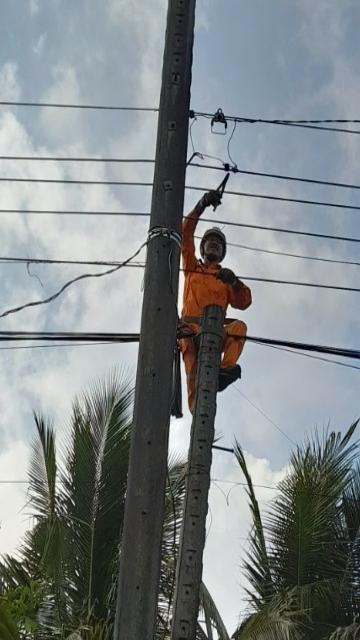gloves: (215, 261, 247, 288), (196, 186, 225, 213)
harness: (176, 310, 234, 330)
helmet: (194, 222, 236, 247)
shoes: (214, 366, 246, 391)
